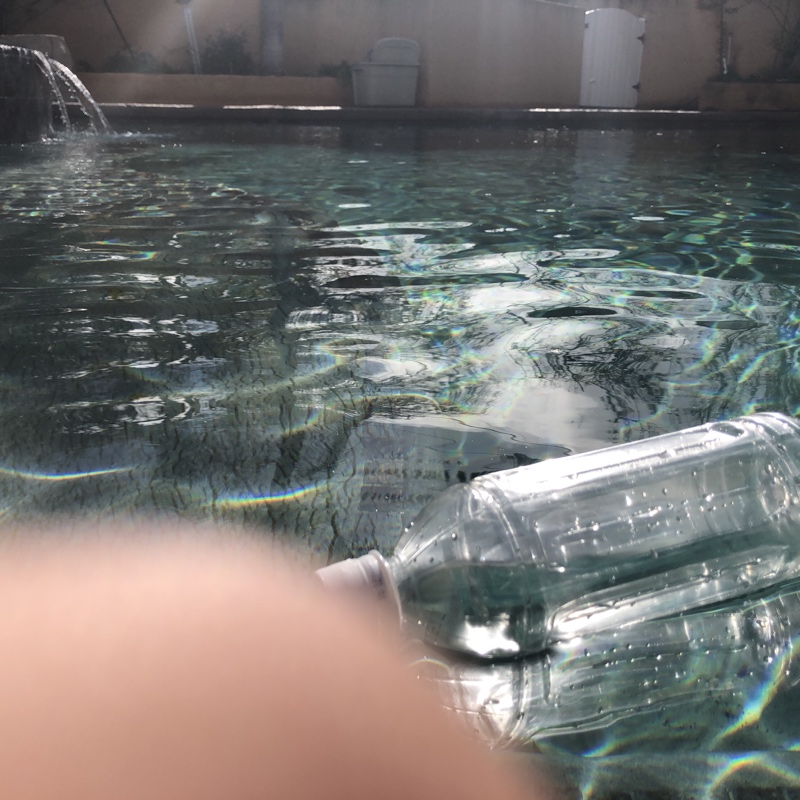Plastic Bottle: (301, 396, 800, 674)
